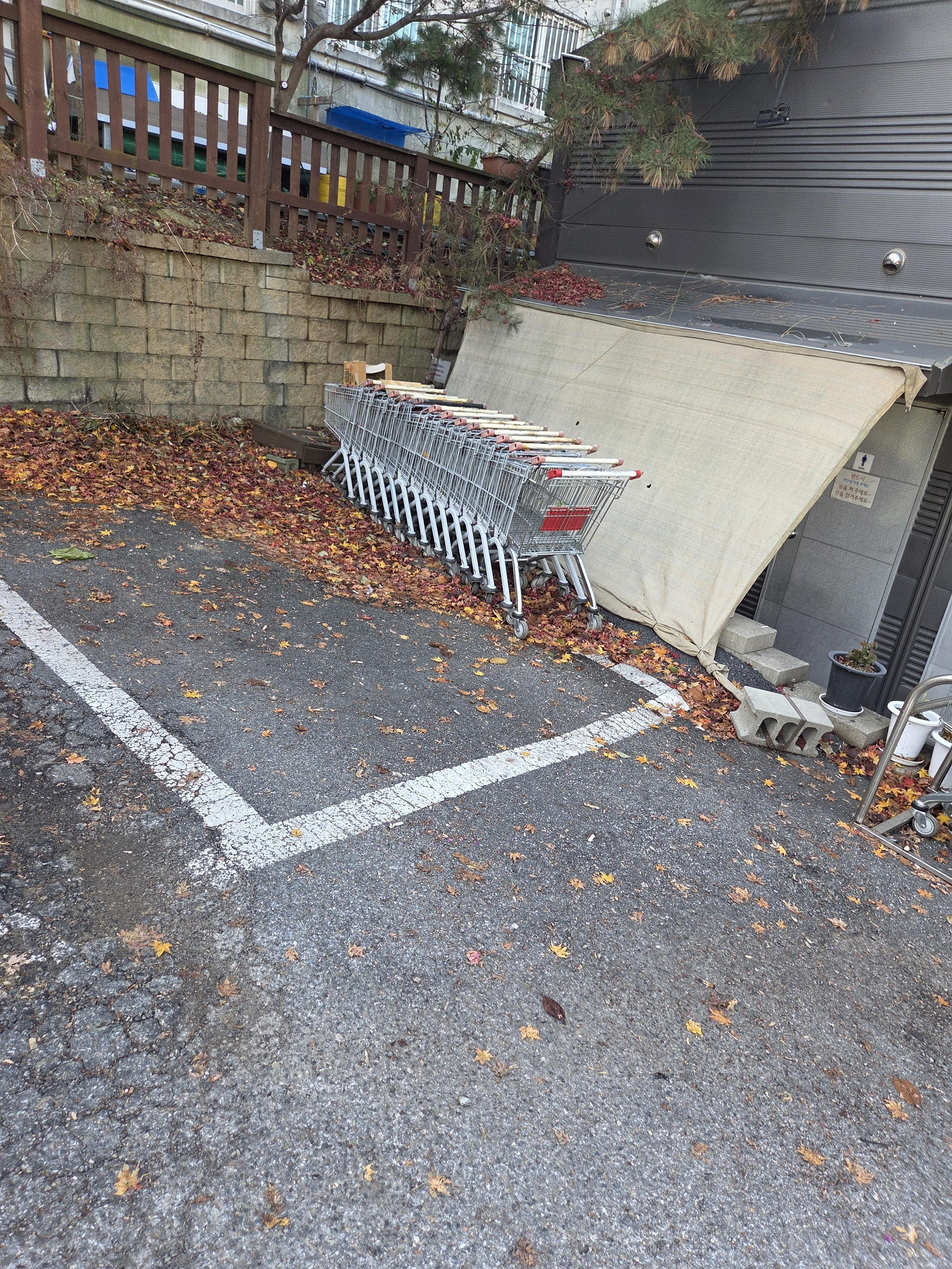combined_cart: (306, 356, 633, 629)
